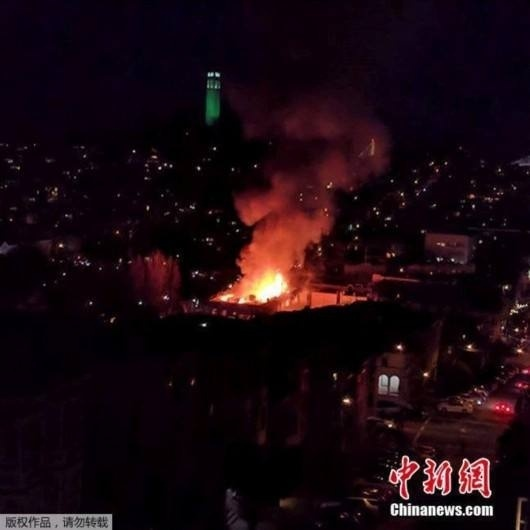fire: (242, 268, 287, 304)
